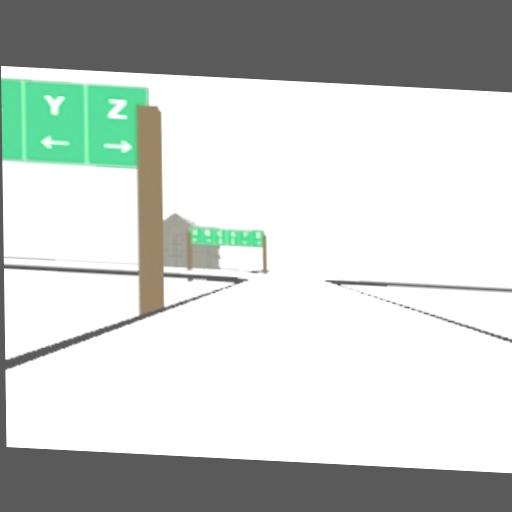Left: (39, 134, 71, 150)
Right: (101, 137, 133, 153)
Y: (42, 93, 65, 115)
Z: (105, 95, 130, 121)
